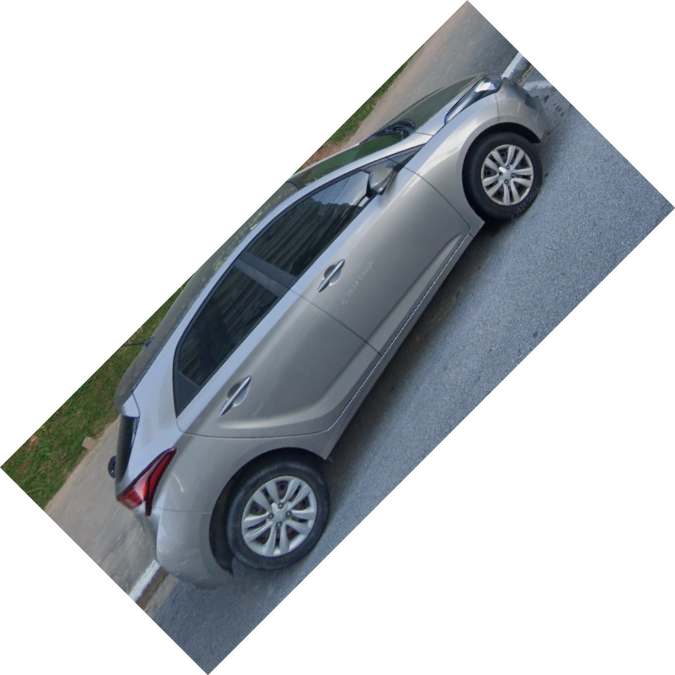car: (111, 71, 545, 593)
